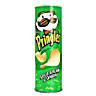grozi_35: (33, 3, 63, 93)
